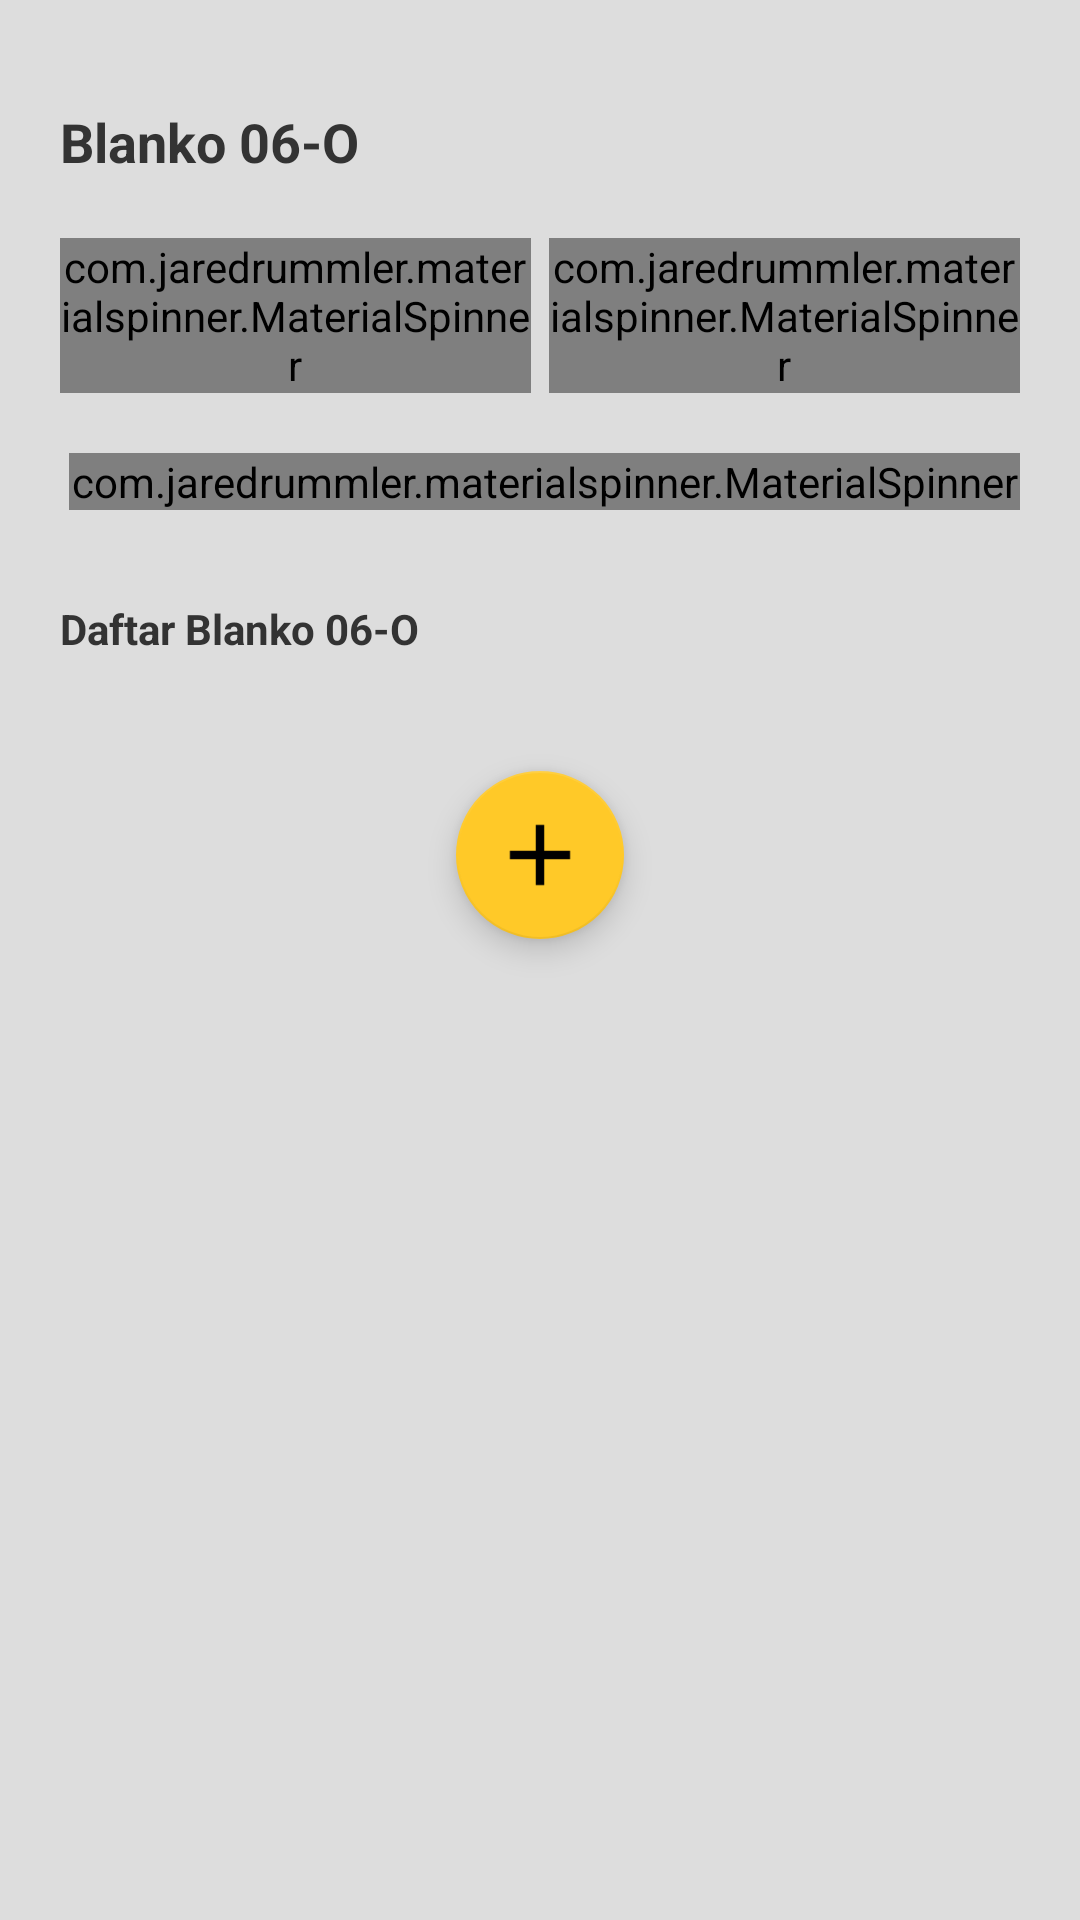

Where to tap for icons on this 1080w x 1920h app screen, as (x,y):
add: (540,855)
